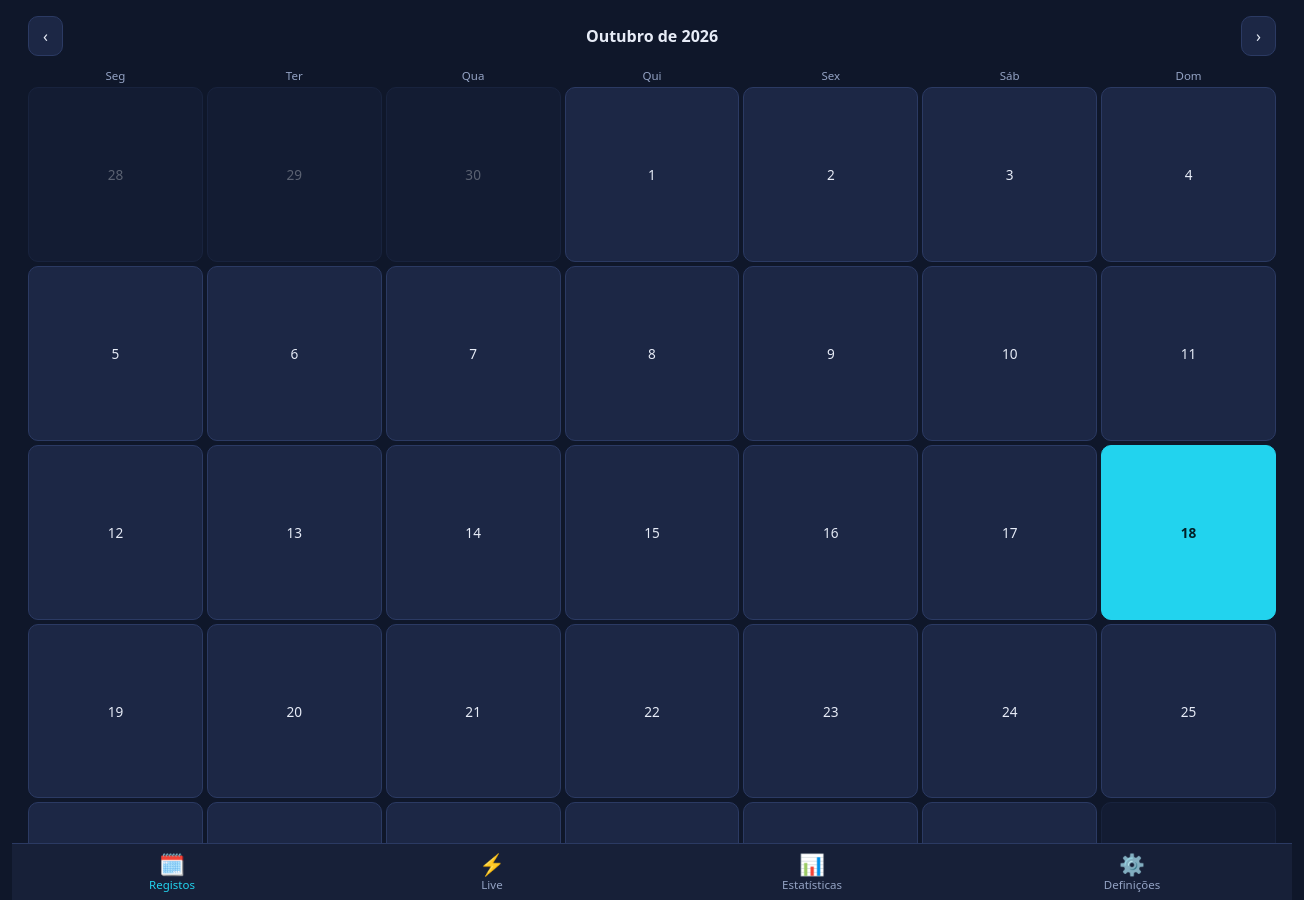
Scenario: App › navigates between tabs
Click the button "⚡ Live".
click(492, 872)  # box [332, 844, 652, 899]
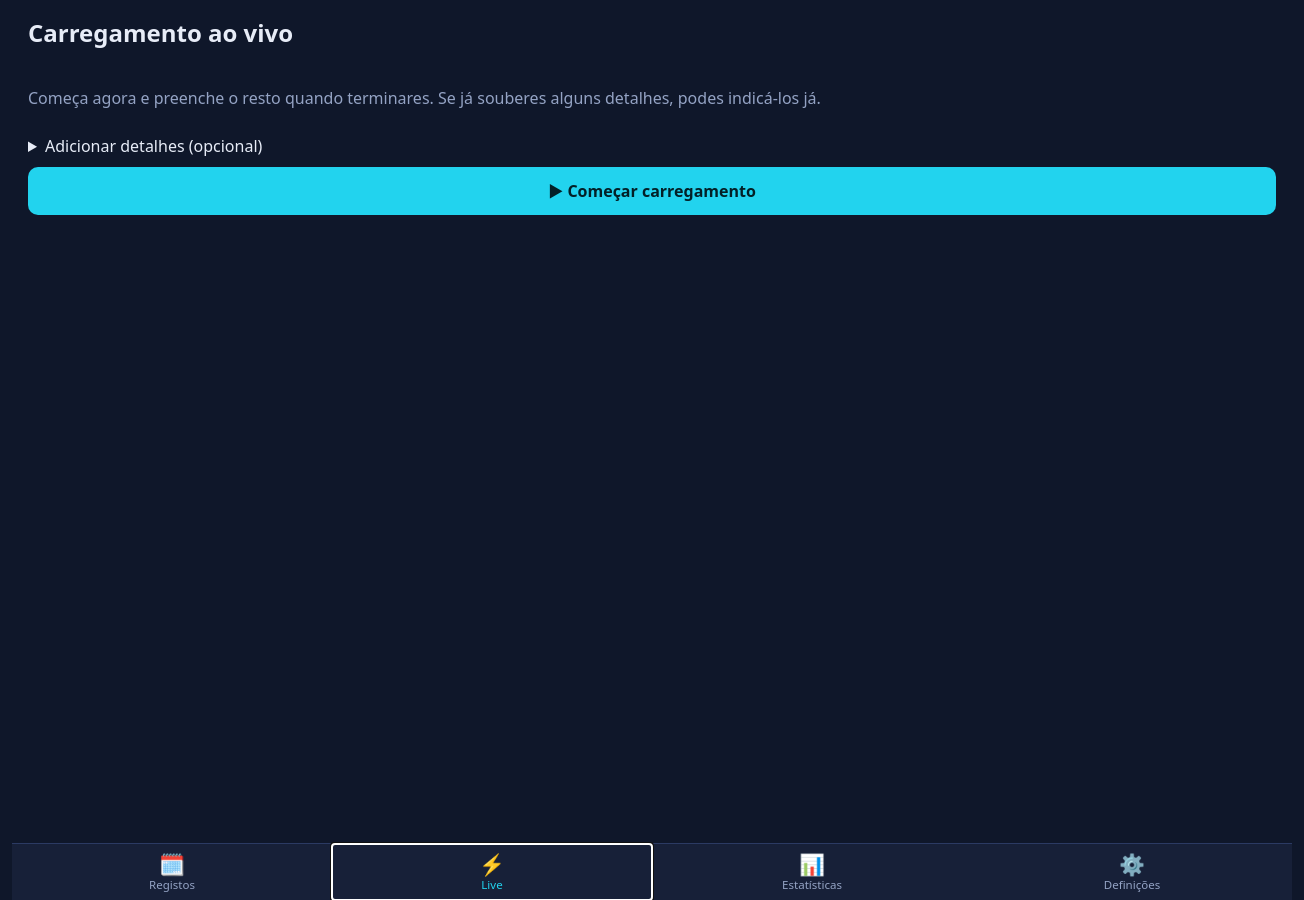
Result: the heading "Carregamento ao vivo" is shown at [28, 16, 293, 49]
Click the button "📊 Estatísticas".
click(812, 872)  # box [652, 844, 972, 899]
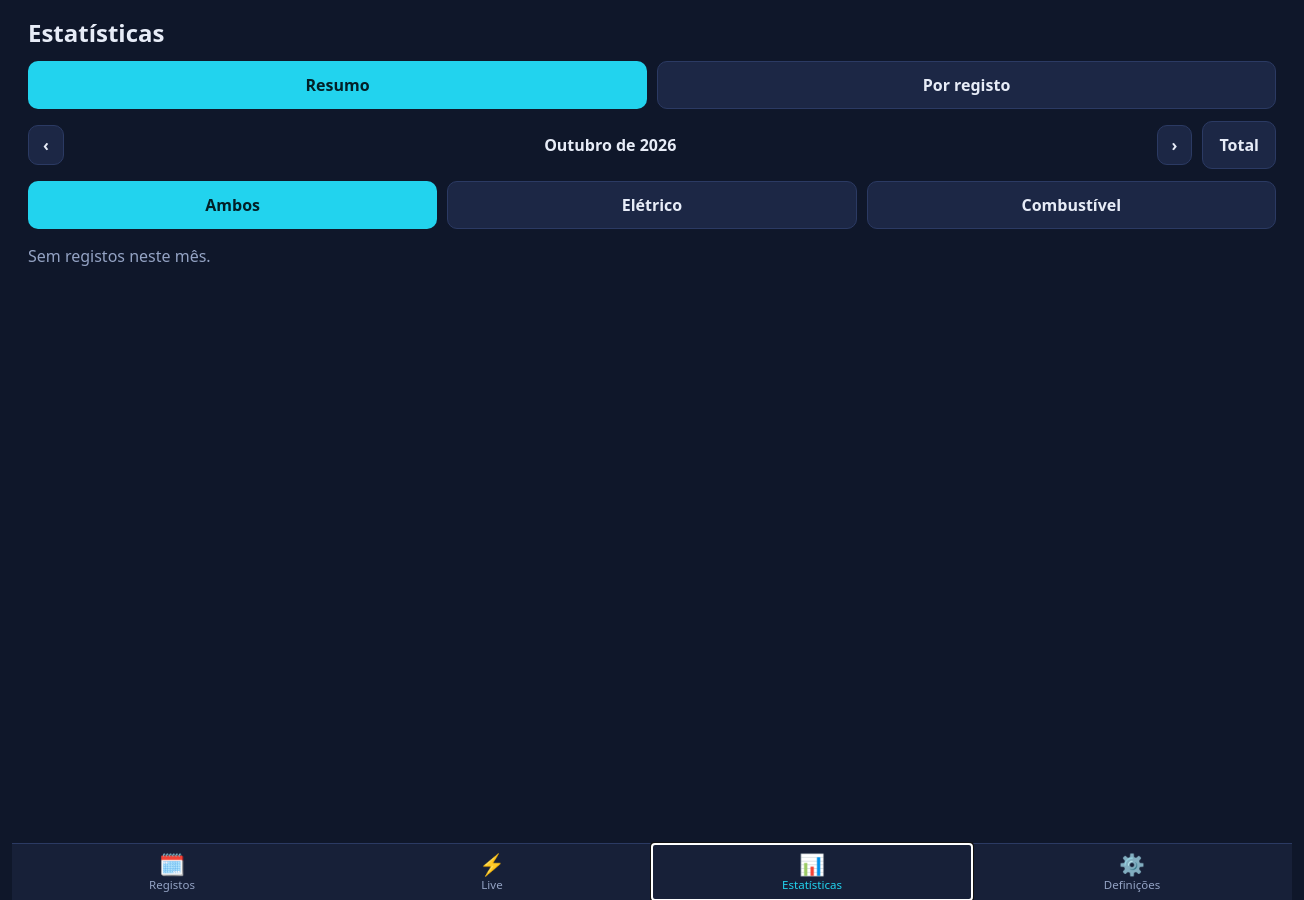
Result: the heading "Estatísticas" is shown at [28, 16, 164, 49]
Click the button "⚙️ Definições".
click(1132, 872)  # box [972, 844, 1292, 899]
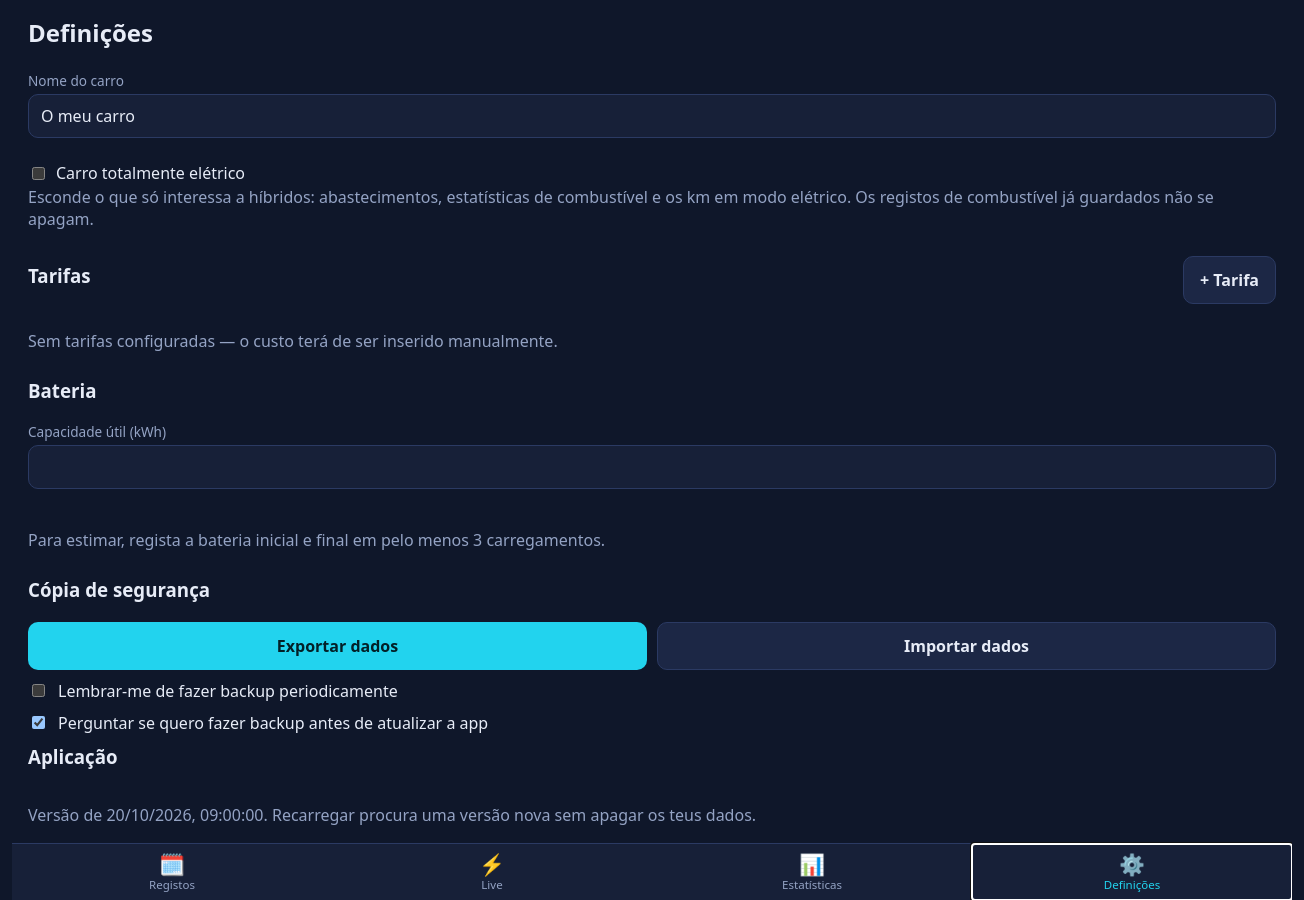
Result: the field labelled "Nome do carro" is shown at [28, 94, 1276, 138]
